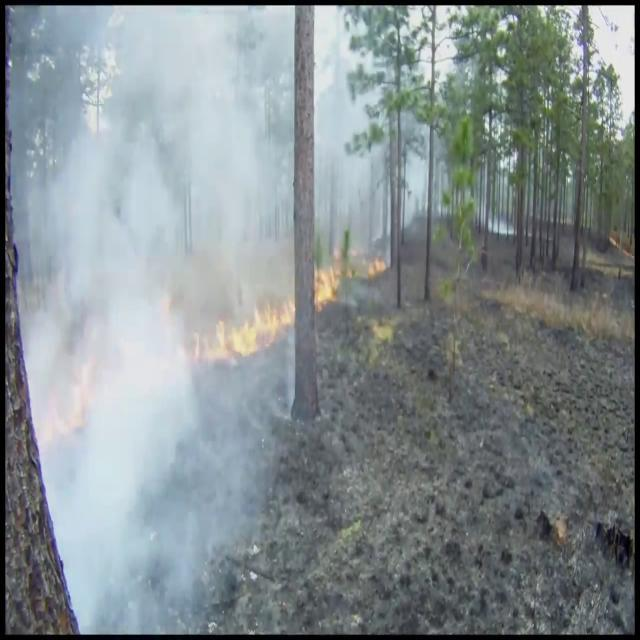Fire: (205, 292, 288, 366), (312, 254, 346, 312)
Smoke: (12, 6, 314, 630)
